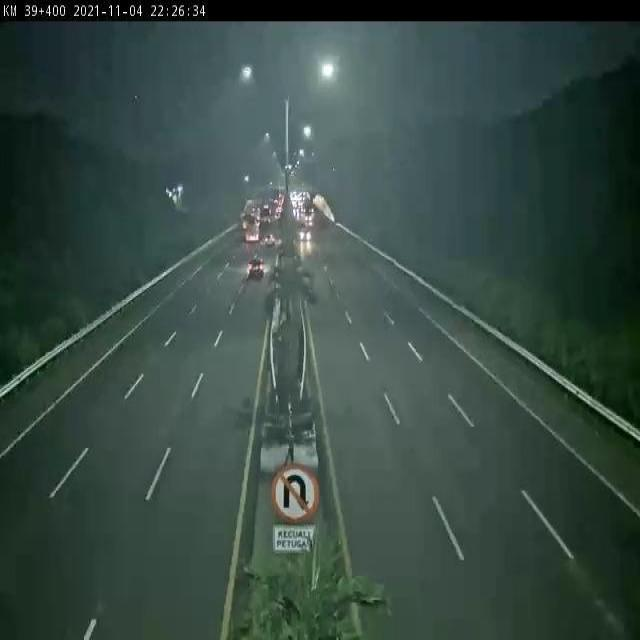Car: (242, 249, 274, 294), (295, 218, 316, 252)
